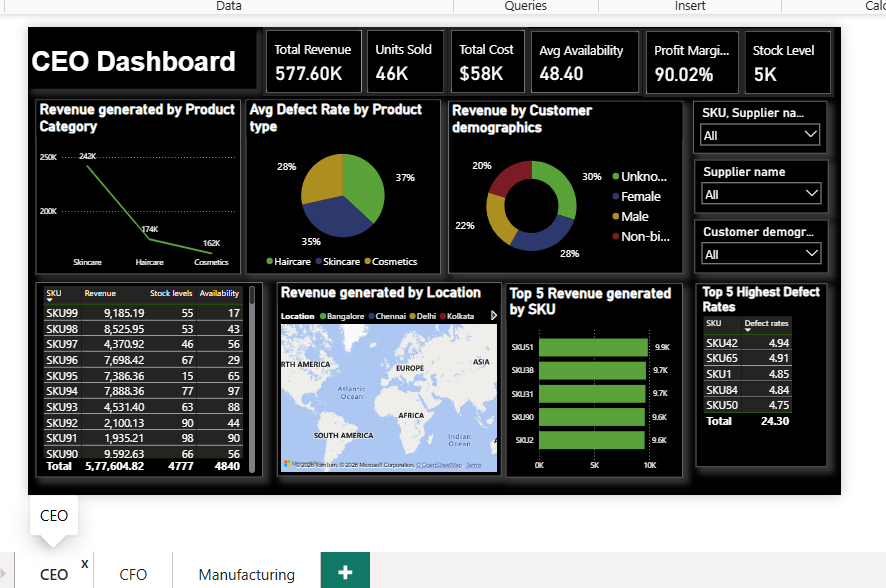

The dashboard page shown, as its layout file describes it:
{"tool":"powerbi","page":{"name":"CEO","canvas":[1300,750],"ordinal":0},"visuals":[{"type":"lineChart","title":"Revenue generated by Product Category","fields":{"Category":["Data Cleaning.Product Category"],"Y":["Sum(Data Cleaning.Revenue generated)"]},"box":[11.4,115.7,328.6,280],"z":0},{"type":"donutChart","title":"Revenue by Customer demographics","fields":{"Category":["Data Cleaning.Customer demographics"],"Y":["Sum(Data Cleaning.Revenue generated)"]},"box":[671.4,118.6,377.1,277.1],"z":1000},{"type":"filledMap","title":"Revenue generated by Location","fields":{"Series":["Data Cleaning.Location"]},"box":[397.1,408.6,360,311.4],"z":2000},{"type":"tableEx","fields":{"Values":["Data Cleaning.SKU","Sum(Data Cleaning.Revenue generated)","Sum(Data Cleaning.Stock levels)","Sum(Data Cleaning.Availability)"]},"box":[11.4,408.6,364.3,312.9],"z":3000},{"type":"slicer","fields":{"Values":["Data Cleaning.SKU","Data Cleaning.Supplier name"]},"box":[1063.3,118.3,215,85],"z":4000},{"type":"textbox","box":[0,1.4,365.7,97.1],"z":5000},{"type":"slicer","fields":{"Values":["Data Cleaning.Supplier name"]},"box":[1065,211.7,215,86.7],"z":6000},{"type":"cardVisual","fields":{"Data":["_Measure.Total Revenue"]},"box":[375,0,163.3,110],"z":7000},{"type":"cardVisual","fields":{"Data":["_Measure.Total Units Sold"]},"box":[538.3,0,133.3,110],"z":8000},{"type":"cardVisual","fields":{"Data":["_Measure.Average Availability"]},"box":[800,1.7,183.3,108.3],"z":9000},{"type":"cardVisual","fields":{"Data":["_Measure.Total Cost"]},"box":[671.7,0,128.3,110],"z":10000},{"type":"clusteredBarChart","title":"Top 5 Revenue generated by SKU","fields":{"Y":["_Measure.Total Revenue"],"Category":["Data Cleaning.SKU"]},"box":[764.3,410,284.3,311.4],"z":11000},{"type":"cardVisual","fields":{"Data":["_Measure.Stock Level"]},"box":[1141.7,1.7,148.3,110],"z":12000},{"type":"slicer","fields":{"Values":["Data Cleaning.Customer demographics"]},"box":[1066.7,308.3,215,86.7],"z":13000},{"type":"pieChart","title":"Avg Defect Rate by Product type","fields":{"Y":["_Measure.Avg Defect Rate"],"Category":["Data Cleaning.Product Category"]},"box":[348.6,115.7,312.9,280],"z":14000},{"type":"cardVisual","fields":{"Data":["_Measure.Profit Margin %"]},"box":[983.3,1.7,158.3,110],"z":15000},{"type":"tableEx","title":"Top 5 Highest Defect Rates","fields":{"Values":["Data Cleaning.SKU","Sum(Data Cleaning.Defect rates)"]},"box":[1067.1,410,211.4,294.3],"z":16000}]}

Visuals, with their boxes on the page's 1300x750 design canvas (x1, y1, x2, y2). These are canvas units, not pixel positions in the 886x588 screenshot, which may show the page scaled, cropped or inside an application window:
"Revenue generated by Product Category" lineChart: [11, 116, 340, 396]
"Revenue by Customer demographics" donutChart: [671, 119, 1048, 396]
"Revenue generated by Location" filledMap: [397, 409, 757, 720]
tableEx - Data Cleaning.SKU x Sum(Data Cleaning.Revenue generated): [11, 409, 376, 722]
slicer - Data Cleaning.SKU x Data Cleaning.Supplier name: [1063, 118, 1278, 203]
textbox: [0, 1, 366, 98]
slicer - Data Cleaning.Supplier name: [1065, 212, 1280, 298]
cardVisual - _Measure.Total Revenue: [375, 0, 538, 110]
cardVisual - _Measure.Total Units Sold: [538, 0, 672, 110]
cardVisual - _Measure.Average Availability: [800, 2, 983, 110]
cardVisual - _Measure.Total Cost: [672, 0, 800, 110]
"Top 5 Revenue generated by SKU" clusteredBarChart: [764, 410, 1049, 721]
cardVisual - _Measure.Stock Level: [1142, 2, 1290, 112]
slicer - Data Cleaning.Customer demographics: [1067, 308, 1282, 395]
"Avg Defect Rate by Product type" pieChart: [349, 116, 662, 396]
cardVisual - _Measure.Profit Margin %: [983, 2, 1142, 112]
"Top 5 Highest Defect Rates" tableEx: [1067, 410, 1278, 704]
